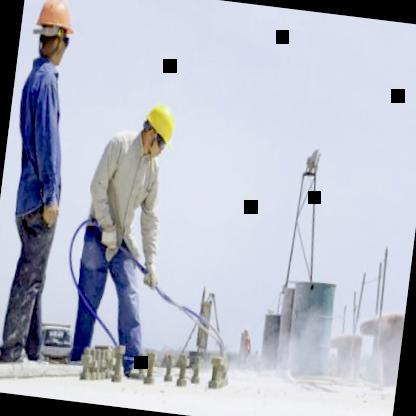helmet: (25, 0, 80, 70), (133, 93, 180, 168)
